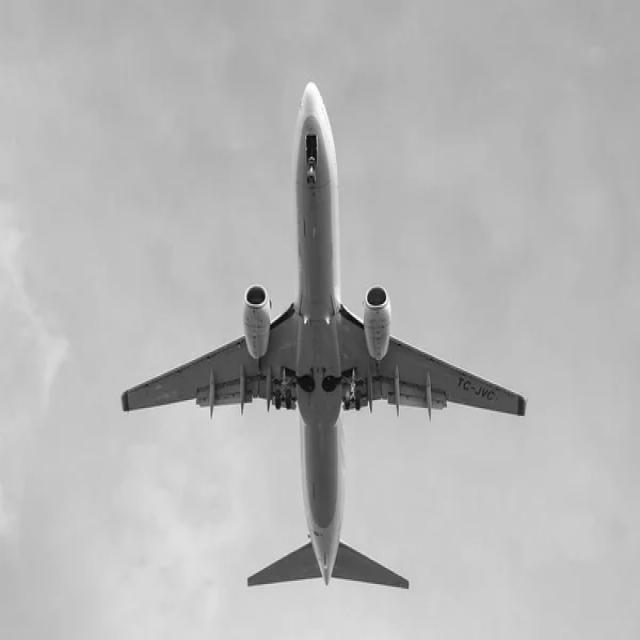Aircraft: (117, 81, 530, 601)
